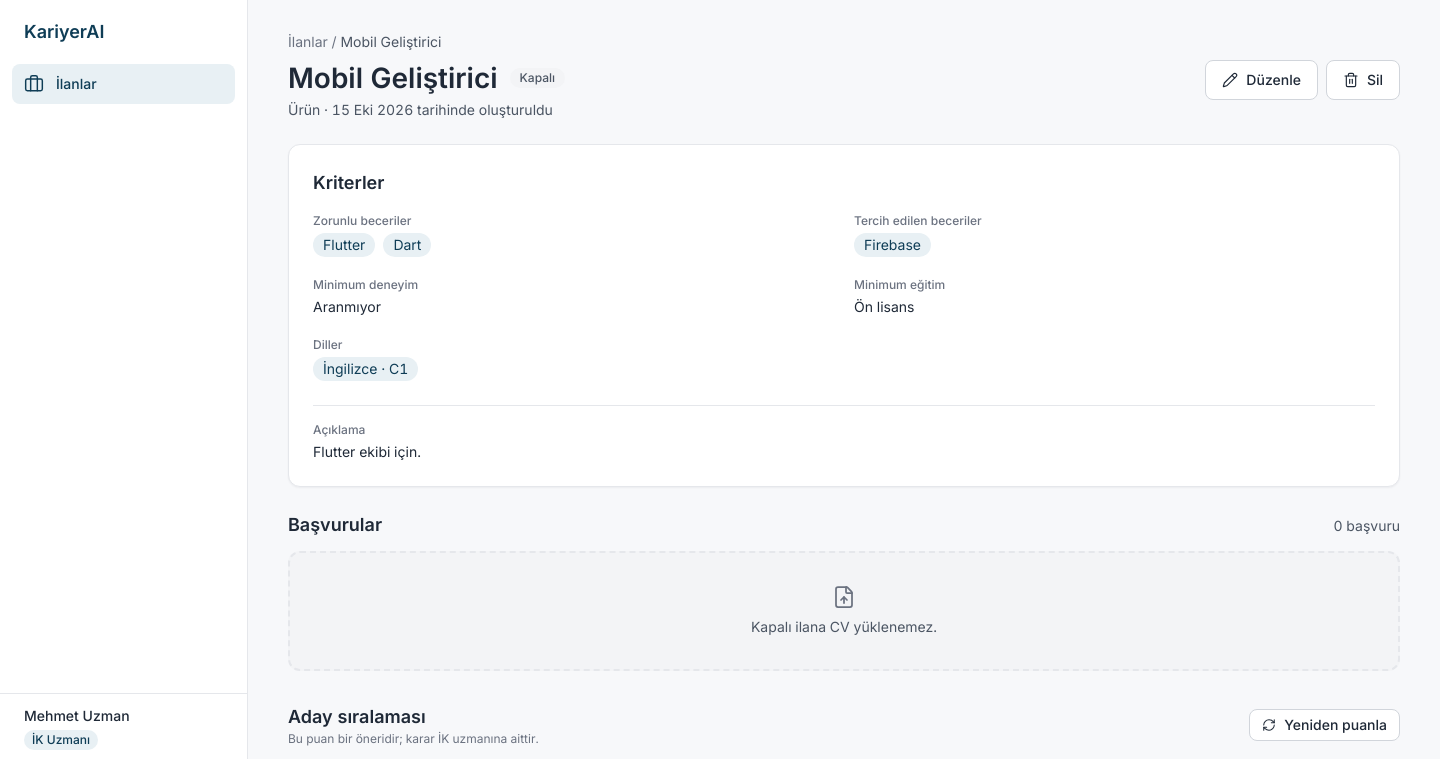
JobDetailPage › silme 409 dönerse nedeni modalda gösterir
This screenshot has width=1440, height=759.
Click the button "Sil". click: x=1363, y=80
box: left=1326, top=60, right=1400, bottom=100
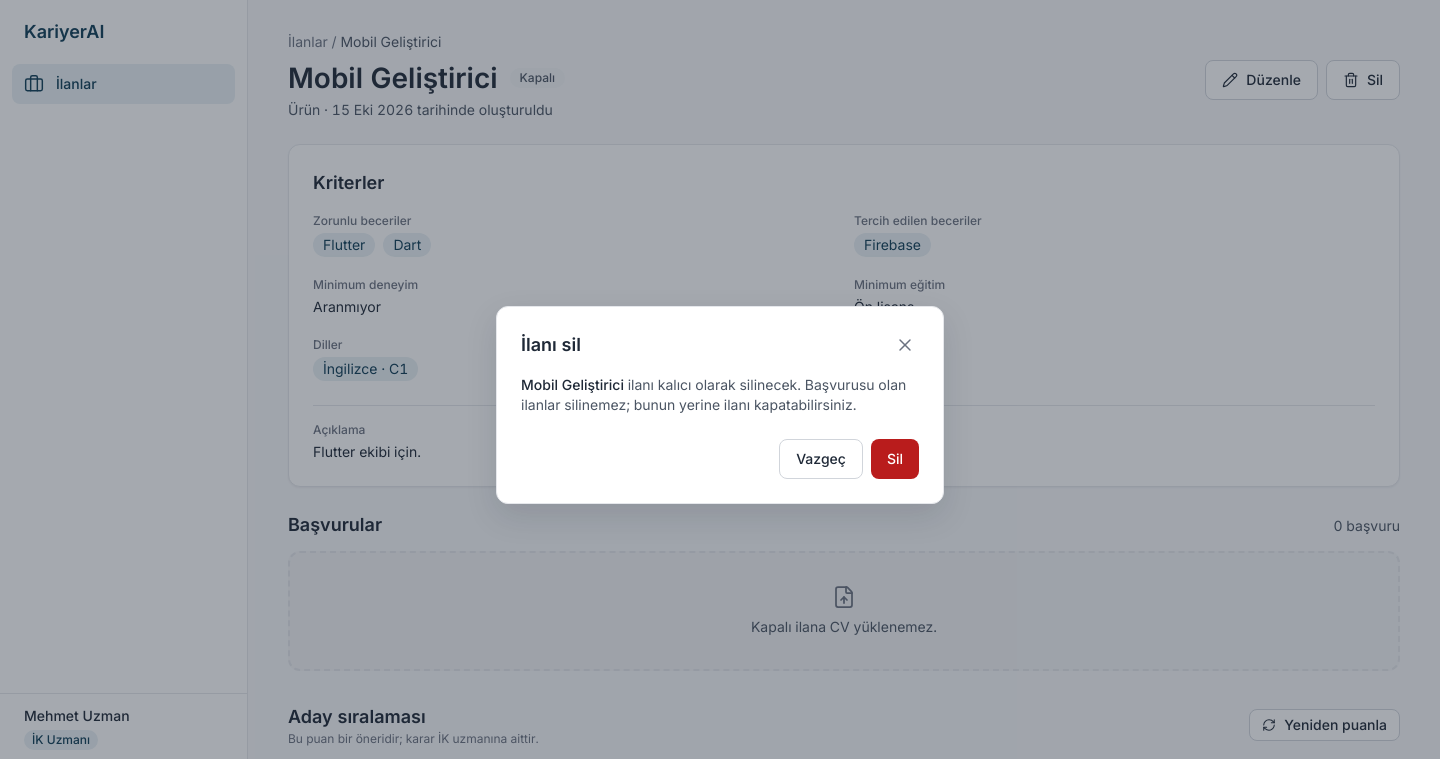
Click the button "Sil". click: x=895, y=459
box: left=871, top=439, right=919, bottom=479
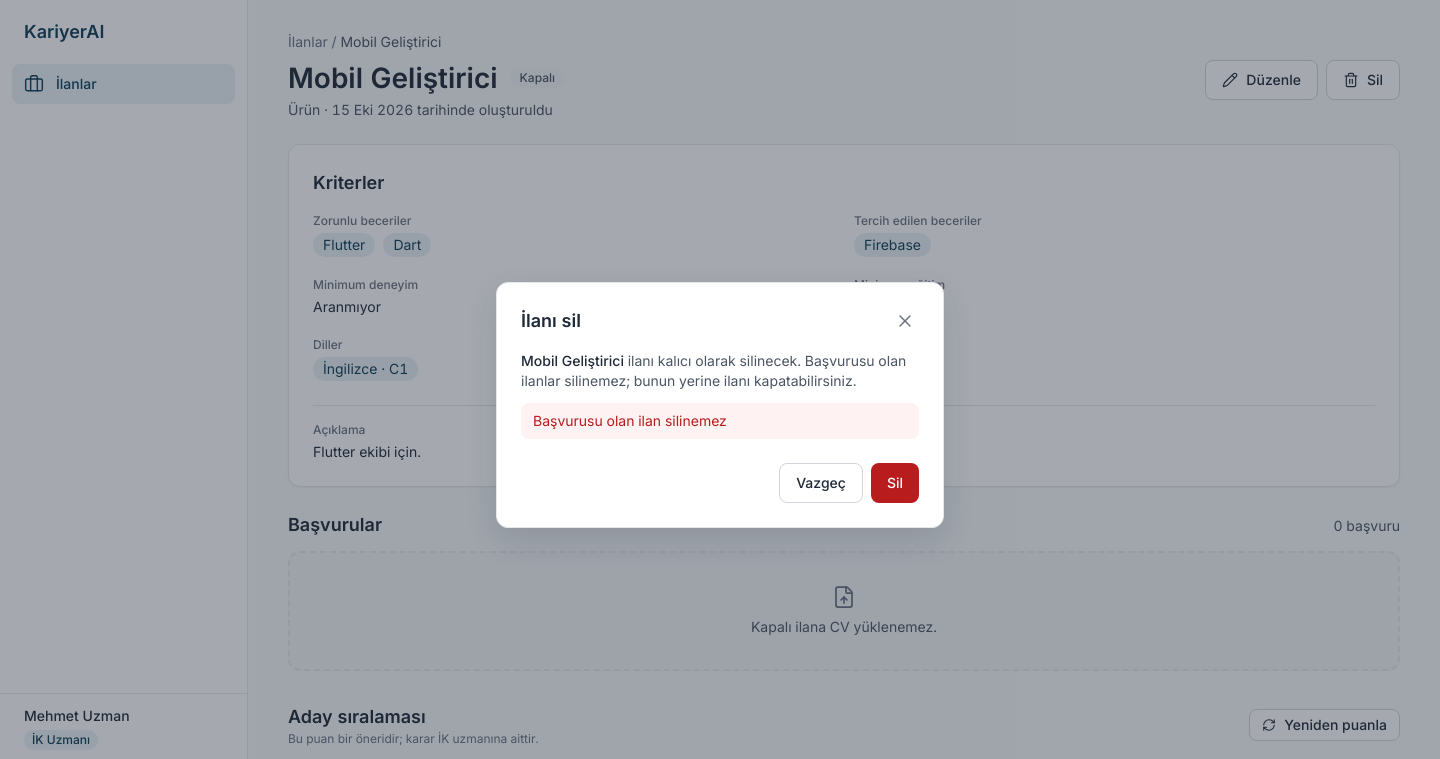
Expected: the message reads "Başvurusu olan ilan silinemez", left=533, top=412, right=727, bottom=429
